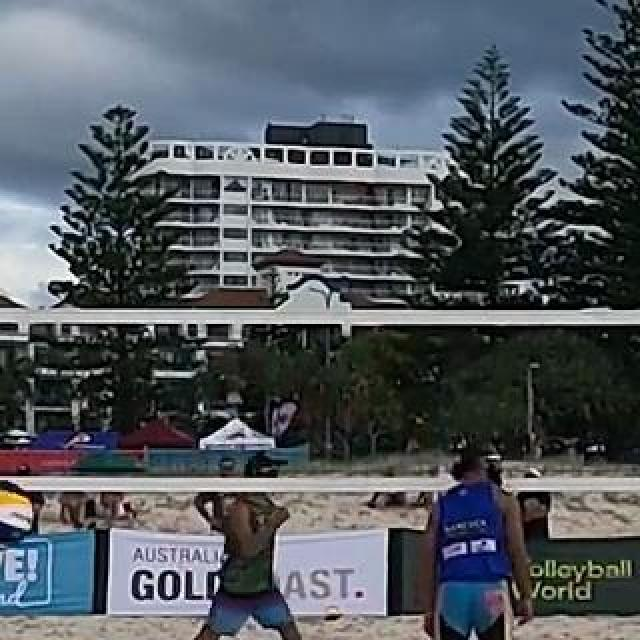volleyball: (0, 479, 34, 551), (323, 603, 343, 623)
